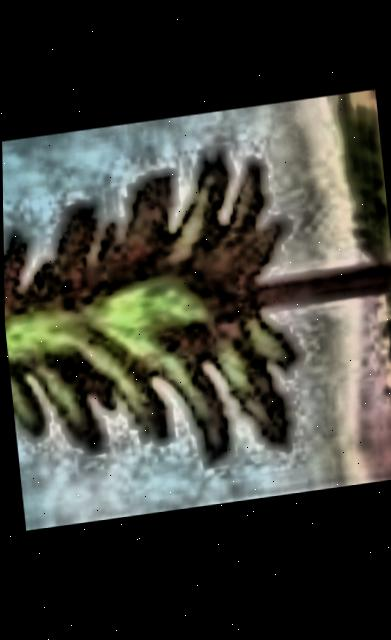El Pino: (1, 91, 391, 531)
